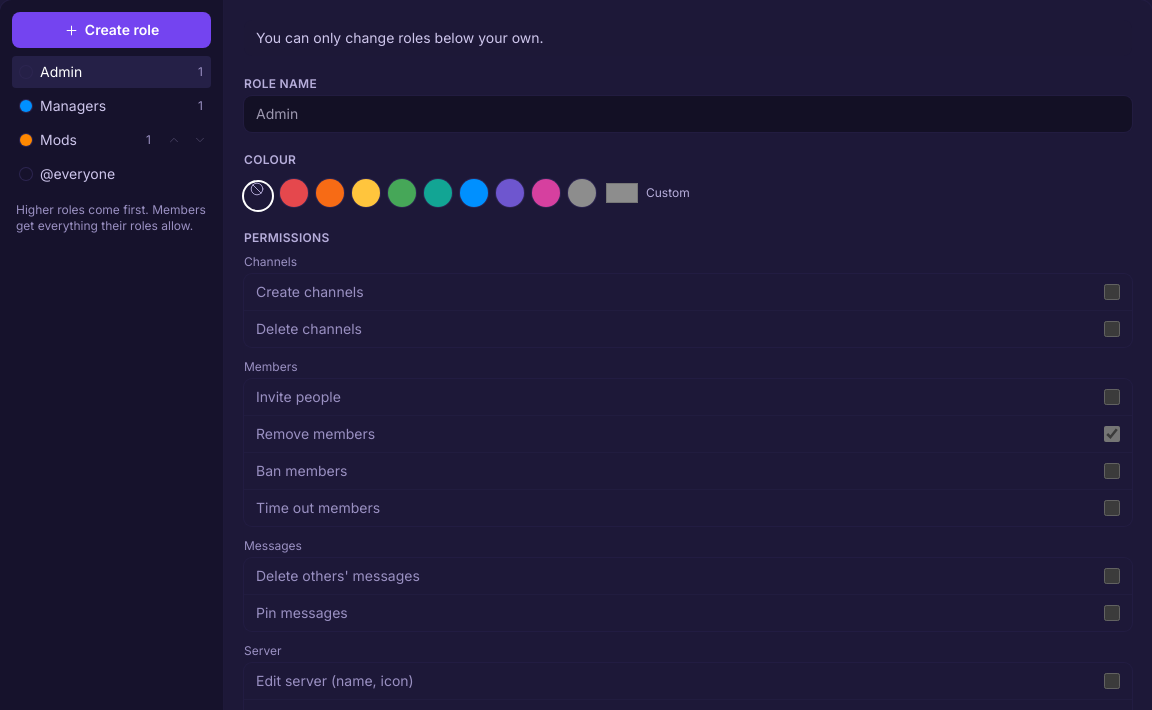
Scenario: a manager: roles at or above them are read-only; permissions they lack are locked
Check: the text "You can only change roles below your own." is shown, box [244, 20, 1132, 56]
Check: the field labelled "Role name" is disabled, box [244, 96, 1132, 132]
Click the button "Mods 1" at [86, 140], box [12, 124, 159, 156]
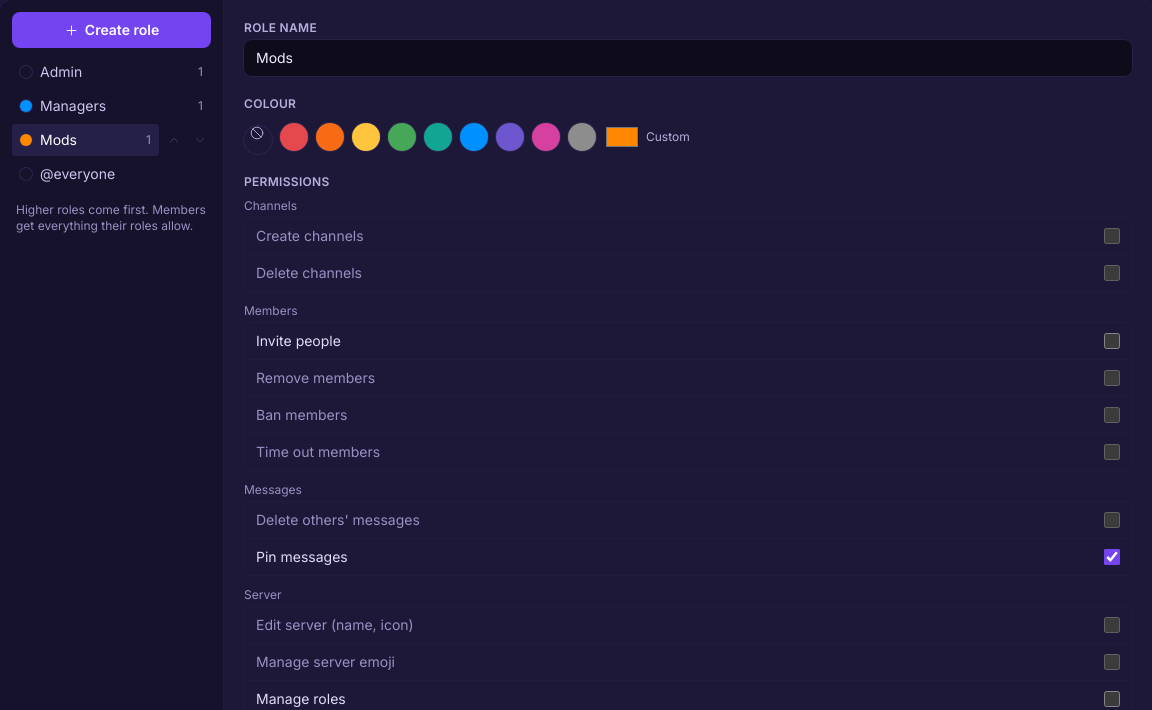
Check: the checkbox labelled "Remove members" is disabled, box [1104, 370, 1120, 386]
Check: the field labelled "Role name" is enabled, box [244, 40, 1132, 76]
Check: the checkbox labelled "Pin messages" is enabled, box [1104, 549, 1120, 565]
